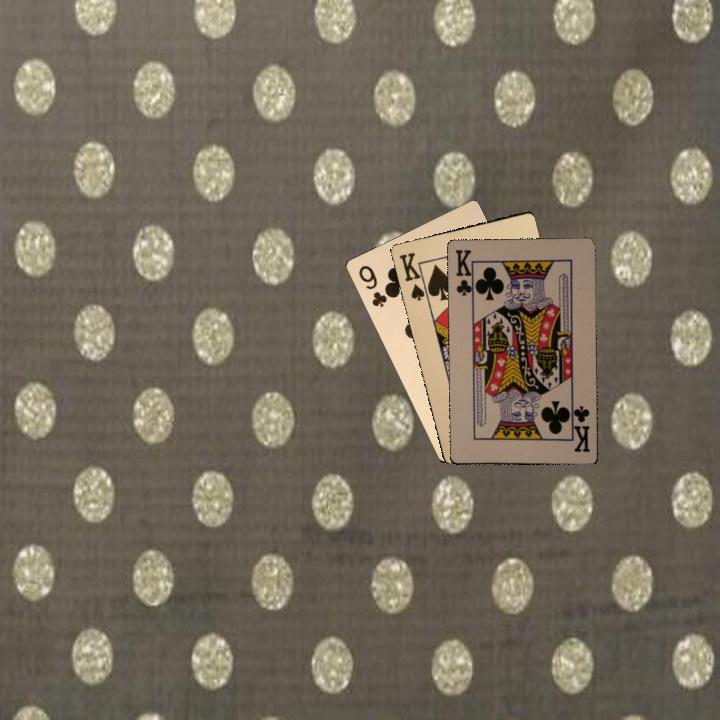9c: (354, 261, 392, 310)
Kc: (452, 246, 477, 301), (567, 401, 592, 455)
Ks: (395, 248, 431, 302)
